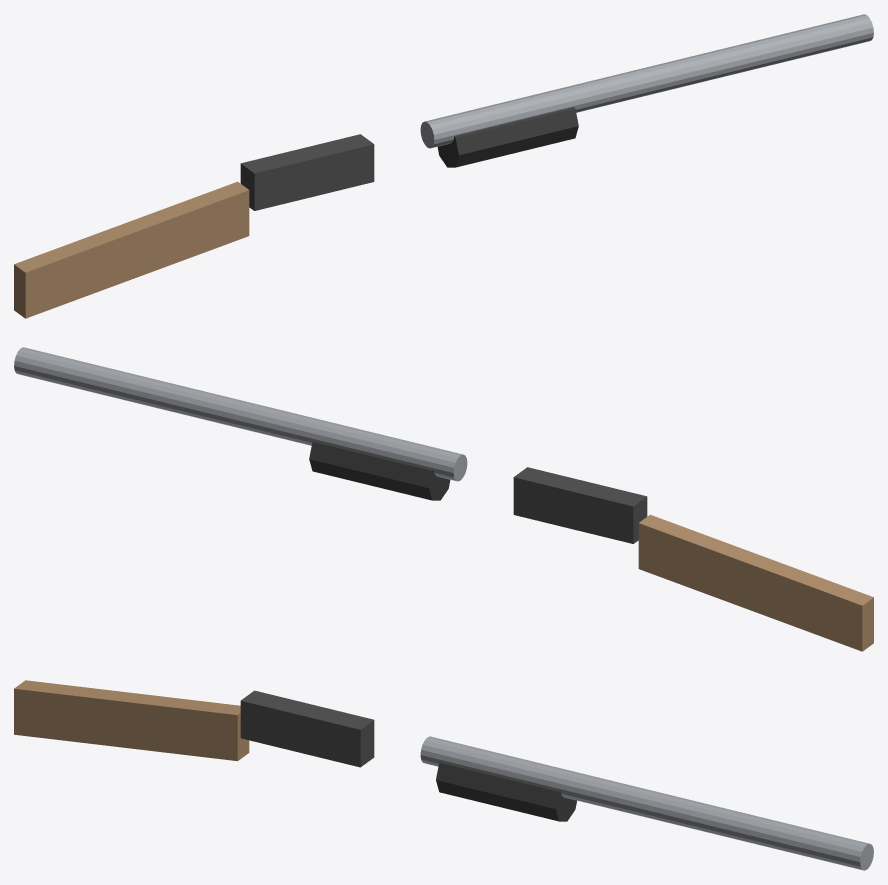
The model's file is shotgun_pump.glb.
3 views of the same model, one above another, from view 1: azimuth 30°, elevation 25°; view 2: azimuth 150°, elevation 25°; view 3: azimuth 330°, elevation 25° (orthographic).
Visible parts, largest first — view 1: shotgun_pump; view 2: shotgun_pump; view 3: shotgun_pump.
Part boxes in pixels (<box>): shotgun_pump: <box>14,14,873,318</box>; shotgun_pump: <box>14,347,873,651</box>; shotgun_pump: <box>14,680,873,870</box>.
Bounding box in the file's own units: 1.06 × 0.1107 × 0.05.
